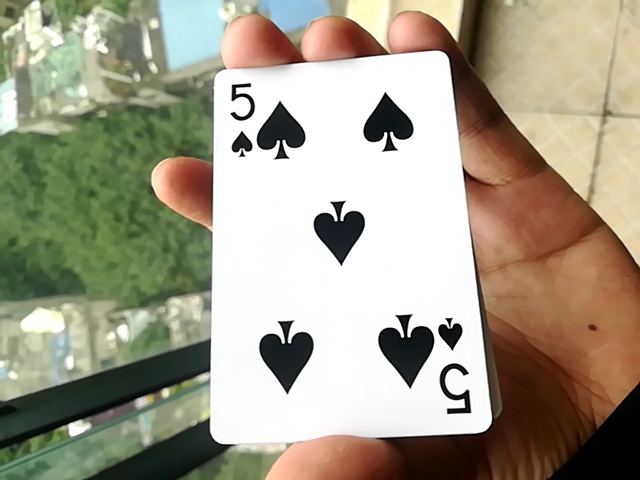ht 5: (206, 40, 485, 449)
